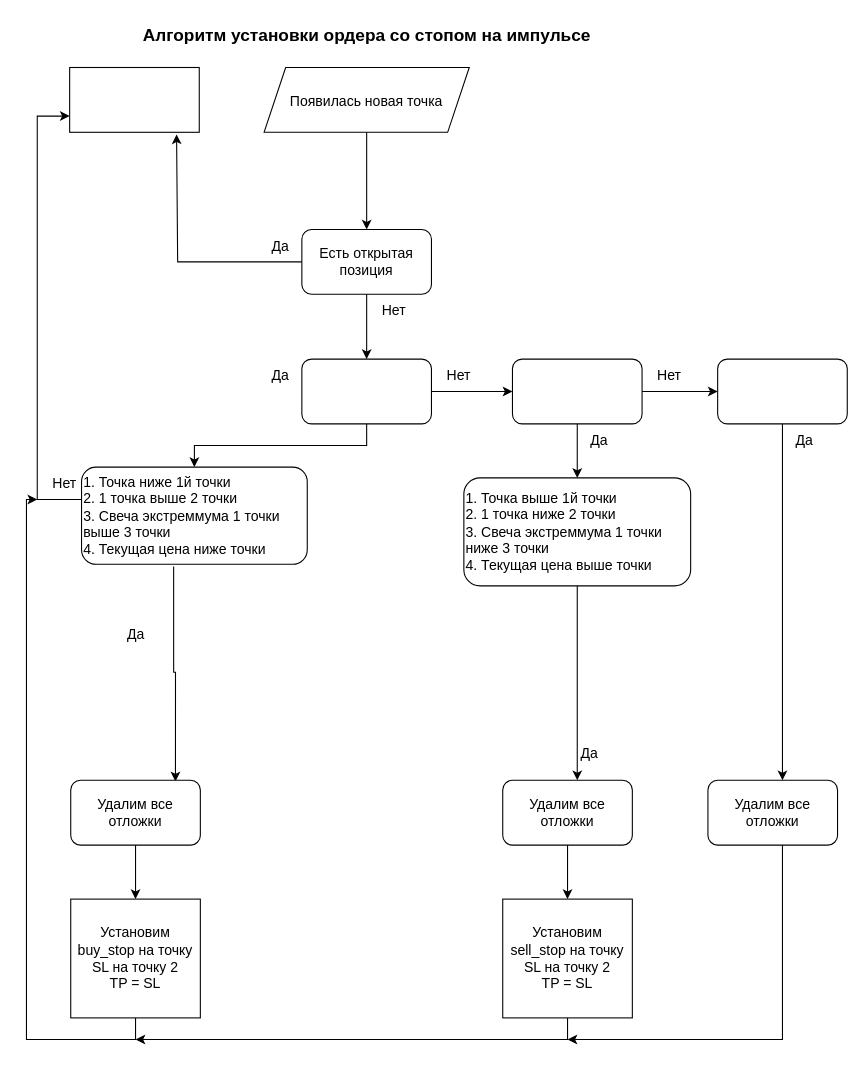
Image size: 866x1067. Some labels were removed from this diagram. Each missing label, with the box of its shape:
Выход: (69, 66, 199, 132)
Тренд вверх: (301, 358, 431, 424)
Тренд вниз: (511, 358, 642, 424)
Флэт: (717, 358, 847, 424)
